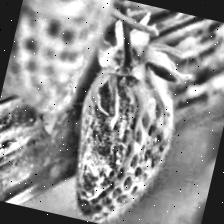Gray Mold: (57, 33, 193, 224)
